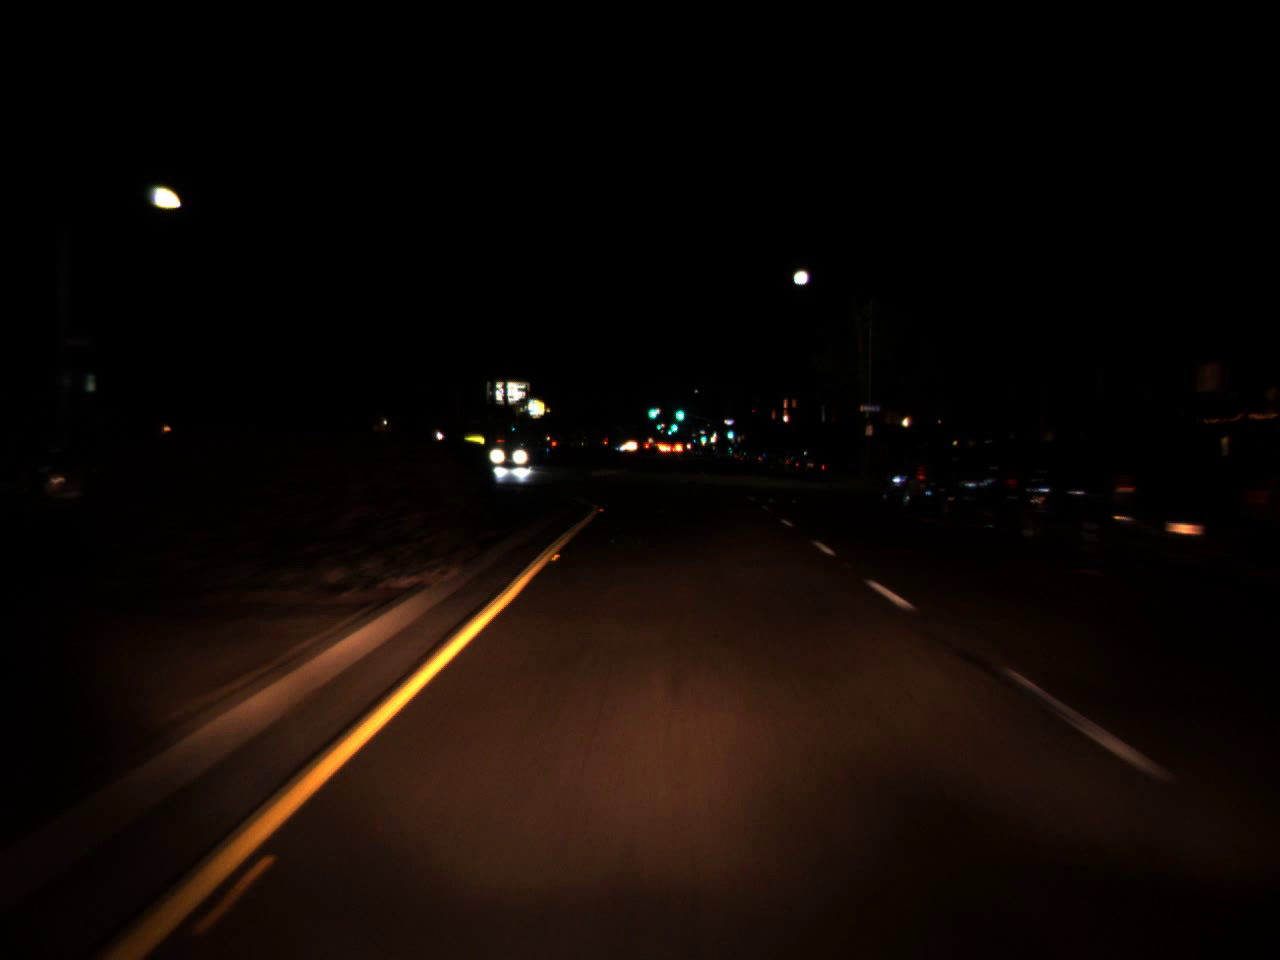go: (672, 397, 686, 424), (645, 398, 657, 422), (670, 412, 677, 436), (725, 426, 734, 438), (700, 429, 707, 444), (665, 425, 672, 437)
